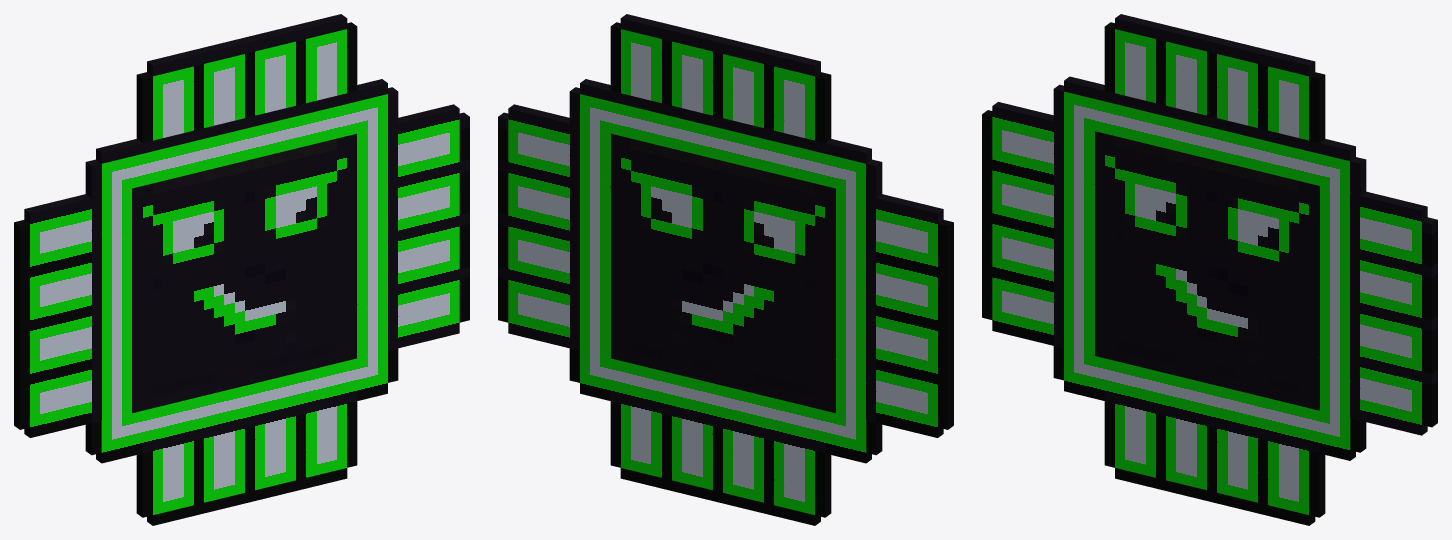
Rendered from voxel_cpu.glb.
The picture shows the model from 3 angles, left to right: view 1: azimuth 30°, elevation 25°; view 2: azimuth 150°, elevation 25°; view 3: azimuth 330°, elevation 25°; orthographic projection.
Visible parts, largest first — view 1: Object_4; view 2: Object_4; view 3: Object_4.
Part boxes in pixels (bbox=[...]): Object_4: bbox=[14, 14, 469, 525]; Object_4: bbox=[498, 14, 953, 525]; Object_4: bbox=[982, 14, 1437, 525].
Bounding box in the file's own units: 44 × 43 × 1.
Materials: 1 (1 with a texture image).
